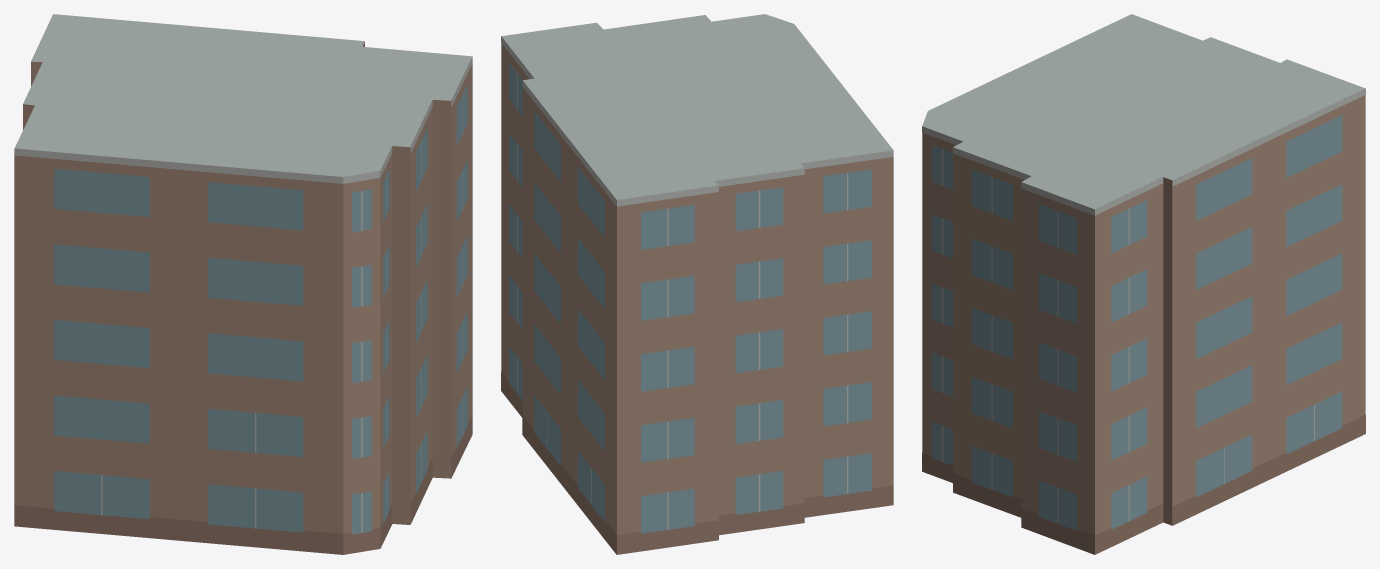
File: survey-upis-32661540.glb
The picture shows the model from 3 angles, left to right: view 1: azimuth 30°, elevation 25°; view 2: azimuth 150°, elevation 25°; view 3: azimuth 270°, elevation 25°; orthographic projection. The views are drawn at different scales.
Visible parts, largest first — view 1: survey-upis-32661540.tmp; view 2: survey-upis-32661540.tmp; view 3: survey-upis-32661540.tmp.
Part boxes in pixels (x1,y1,x2,y2): survey-upis-32661540.tmp: [14, 14, 472, 554]; survey-upis-32661540.tmp: [501, 14, 893, 554]; survey-upis-32661540.tmp: [922, 14, 1365, 554].
Bounding box in the file's own units: 16.21 × 13.35 × 15.55.
